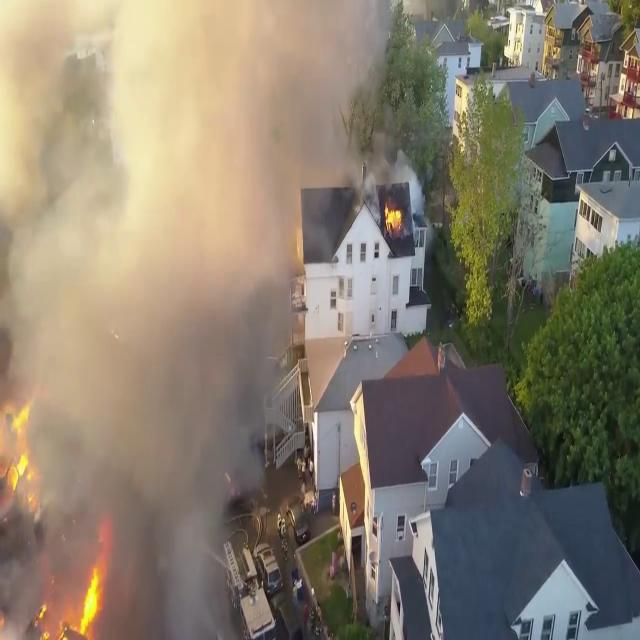Fire: (31, 552, 111, 640), (0, 382, 44, 532), (383, 198, 405, 232)
Smoke: (0, 1, 289, 619), (4, 0, 420, 200)
